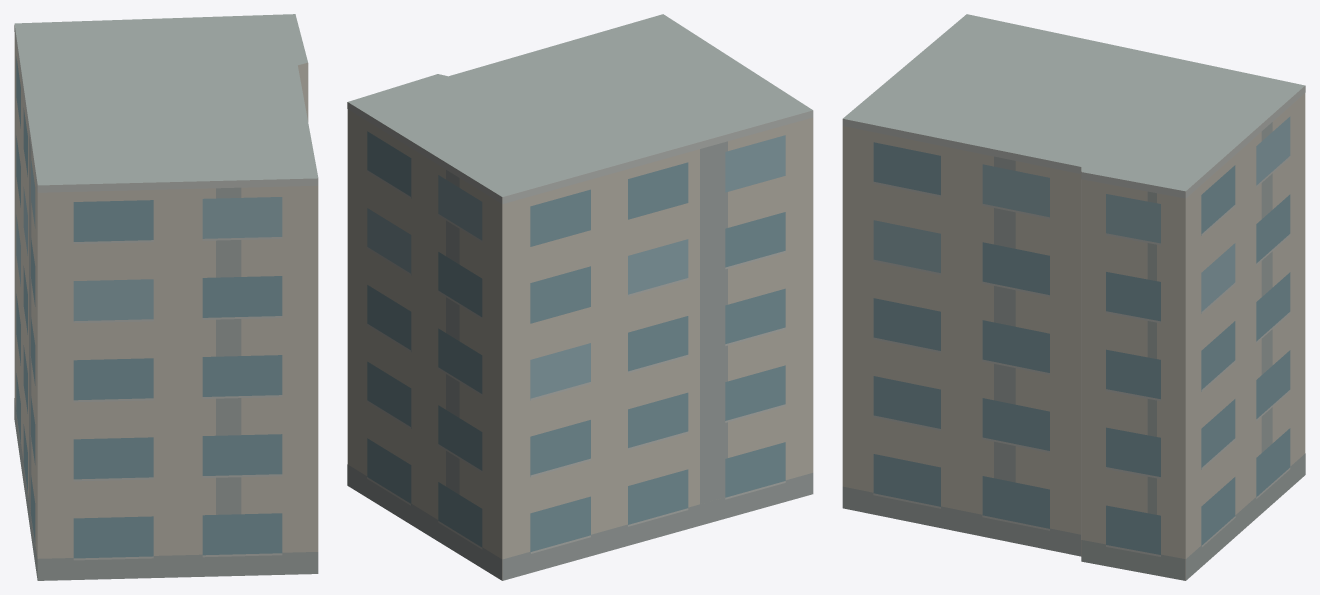
The model's file is survey-upis-32724587.glb.
3 views of the same model, side by side, from view 1: azimuth 30°, elevation 25°; view 2: azimuth 150°, elevation 25°; view 3: azimuth 270°, elevation 25° (orthographic). The views are drawn at different scales.
Parts seen in each view (by area): view 1: survey-upis-32724587.tmp; view 2: survey-upis-32724587.tmp; view 3: survey-upis-32724587.tmp.
Part boxes in pixels (x1=…): survey-upis-32724587.tmp: x1=14, y1=14, x2=318, y2=580; survey-upis-32724587.tmp: x1=347, y1=14, x2=813, y2=580; survey-upis-32724587.tmp: x1=842, y1=14, x2=1305, y2=580.
Bounding box in the file's own units: 12.9 × 13.2 × 14.22.
